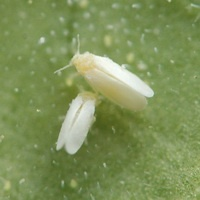insect: (54, 35, 153, 109), (56, 91, 97, 153)
